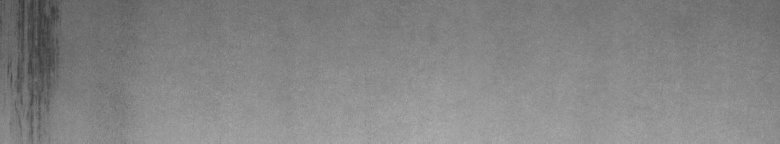ka: (4, 4, 65, 136)
